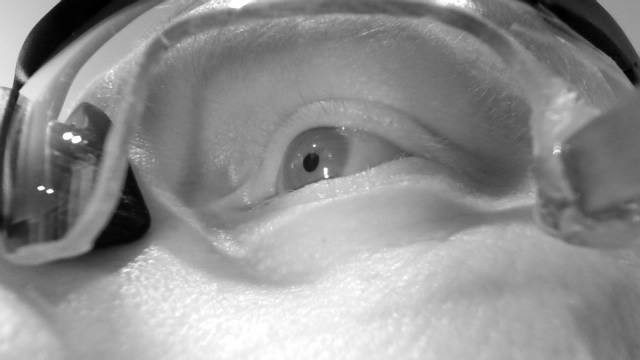pupil: (303, 151, 320, 173)
